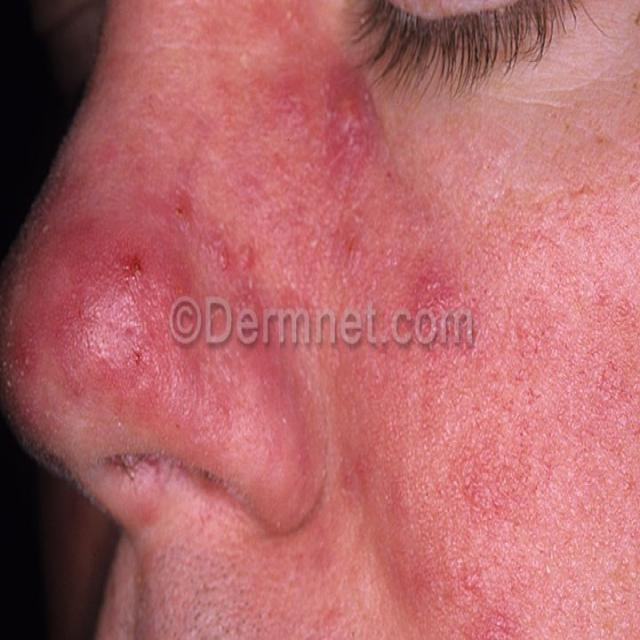Rosacea: (227, 3, 568, 635), (3, 178, 252, 424)
